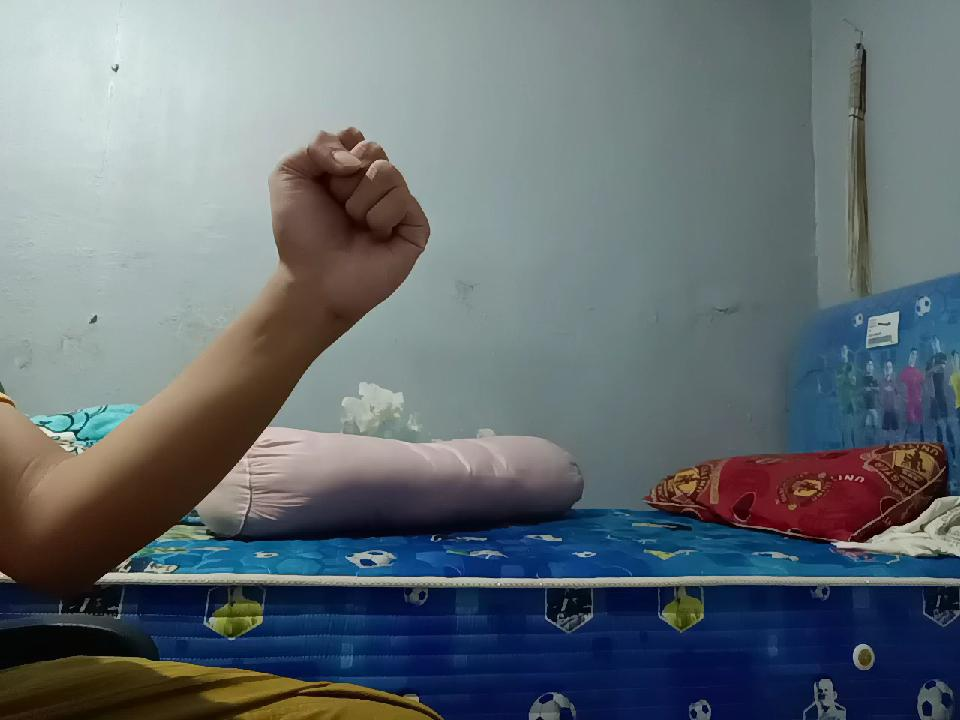rock: (276, 92, 450, 320)
